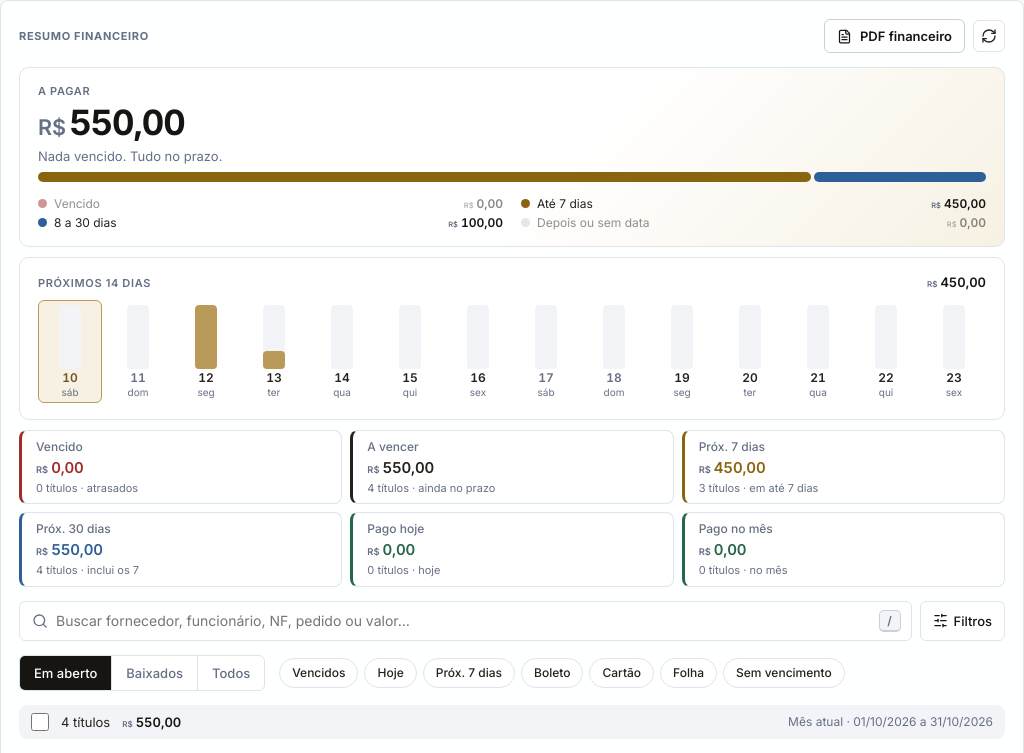
Test: Contas a Pagar — panorama › a agenda soma o que vence em cada dia e o clique filtra a lista, com pílula para remover
Expected: the button with aria-label "Ver vencimentos de 11/10: nada vence" is disabled, [106,300,170,403]
Click the button with aria-label "Ver vencimentos de 12/10: 2 títulos": [206, 352] box [174,300,238,403]
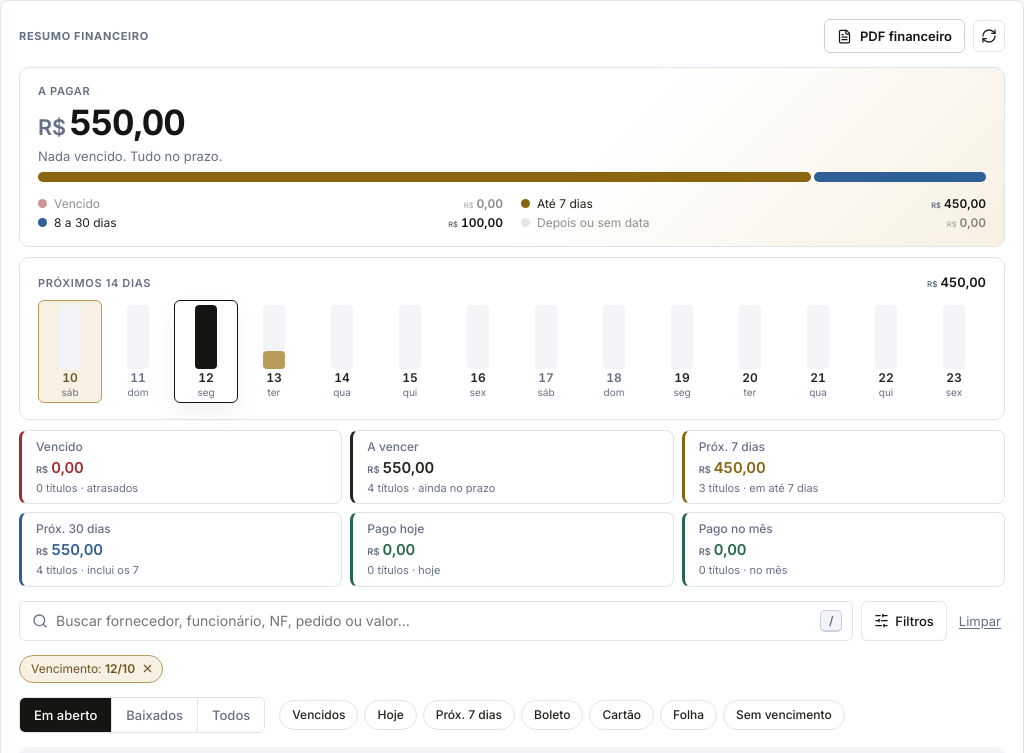
Expected: the text "Caio Hortifruti" is not shown
Now the button with aria-label "Remover filtro Vencimento: 12/10" is shown
Click the button with aria-label "Remover filtro Vencimento: 12/10": [91, 669] box [19,655,163,683]
(page scrolled)
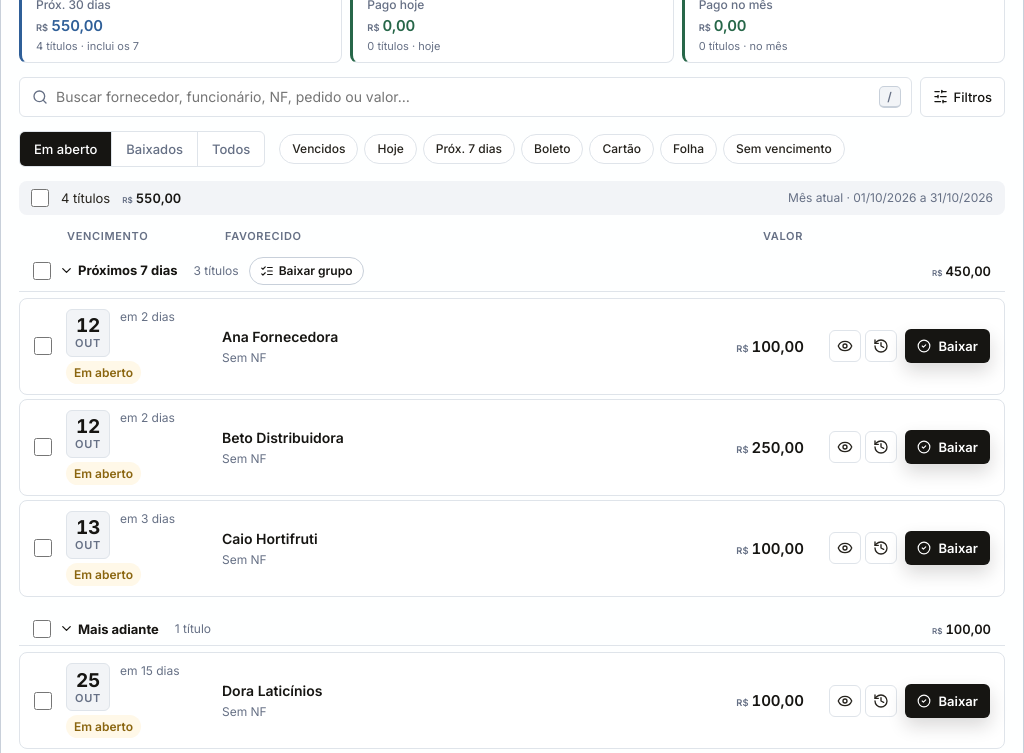
Now the text "Caio Hortifruti" is shown, box [222,530,318,547]
